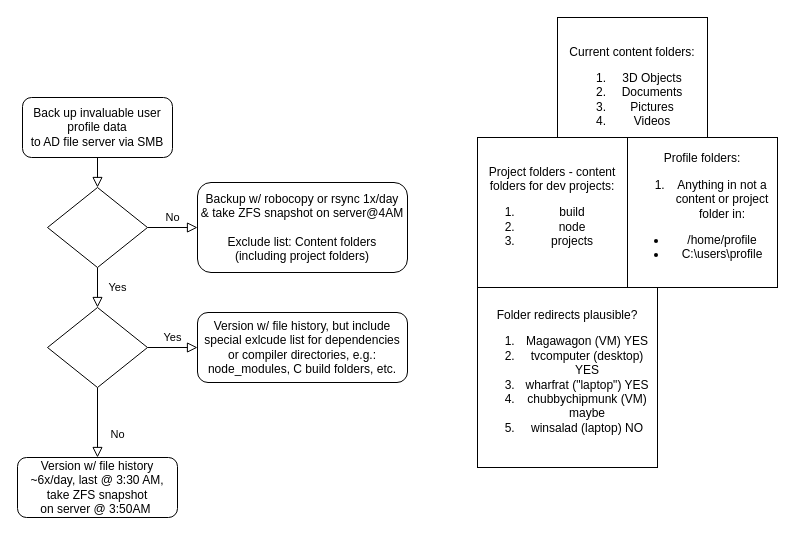
The diagram is 795 pixels wide and 535 high, and some of its shapes have lost their labels. The centre of each missing label's shape, as x and y in pixels:
"Is Content Folder?" belongs at pixel 97 227.
"Is Project Folder?" belongs at pixel 97 347.
